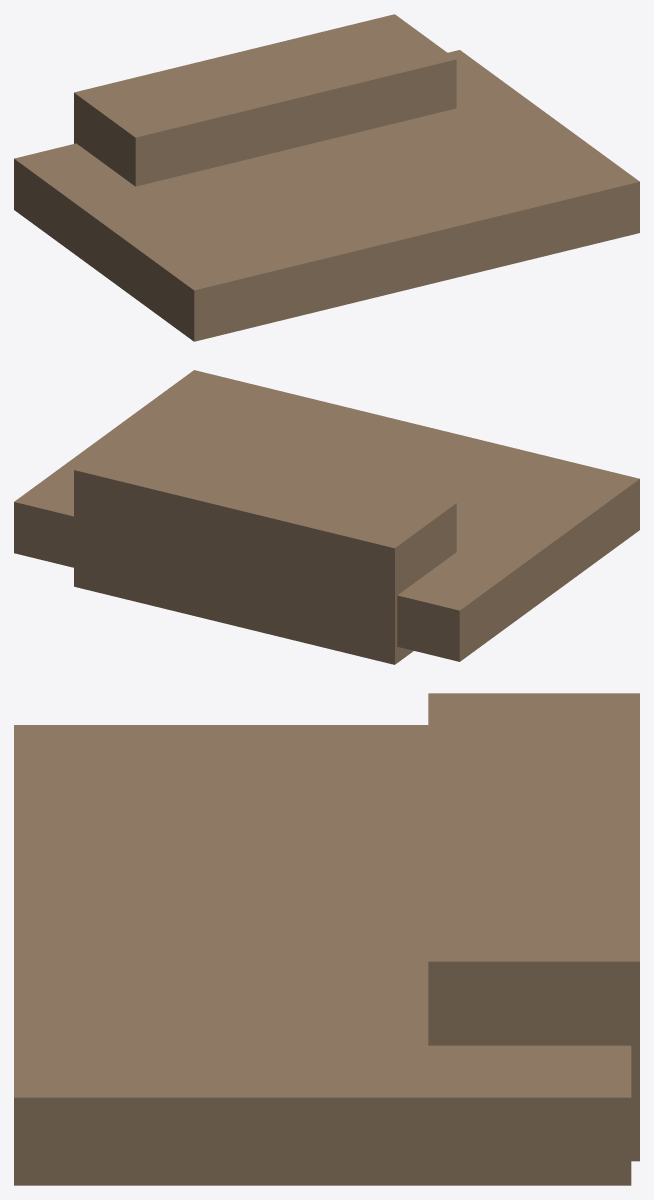
File: hand_total_display.glb
3 renders of one model, top to bottom at view 1: azimuth 30°, elevation 25°; view 2: azimuth 150°, elevation 25°; view 3: azimuth 270°, elevation 25°, orthographic. The views are drawn at different scales.
Parts seen in each view (by area): view 1: hand_total_display; view 2: hand_total_display; view 3: hand_total_display.
Part boxes in pixels (<box>): hand_total_display: <box>14,14,639,341</box>; hand_total_display: <box>14,370,639,664</box>; hand_total_display: <box>14,693,639,1185</box>.
Bounding box in the file's own units: 0.2 × 0.05 × 0.142.
